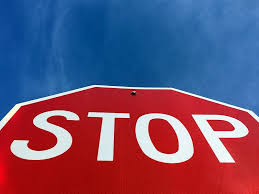SS: (0, 83, 259, 193)
